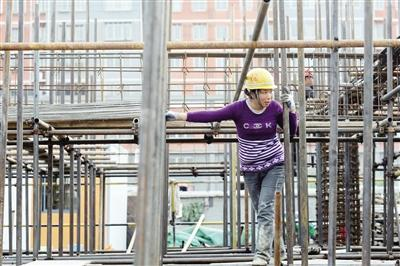helmet: (245, 69, 277, 92), (305, 70, 314, 79)
